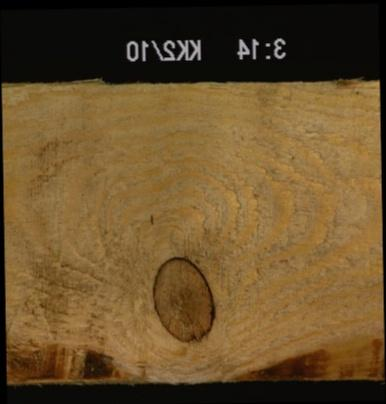dry_knot: (149, 254, 217, 344)
wave: (225, 336, 383, 382), (6, 336, 131, 385)
